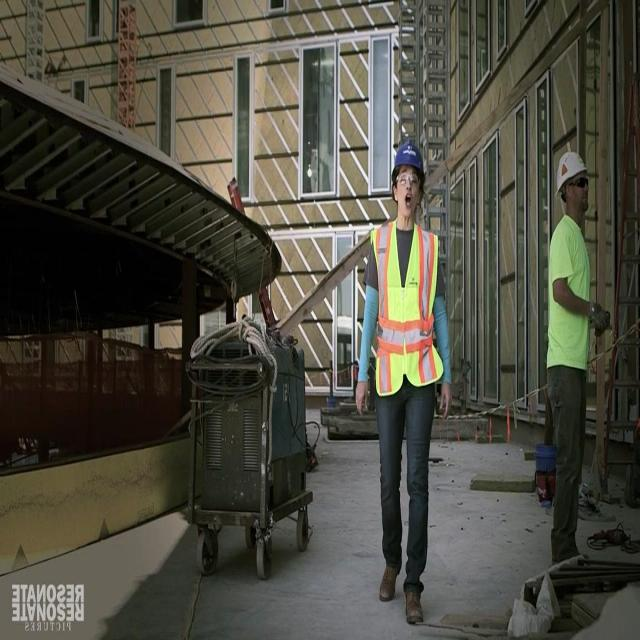Reflective-Jacket: (356, 214, 450, 406)
Safety-Helmet: (384, 130, 432, 189), (552, 144, 592, 198)
